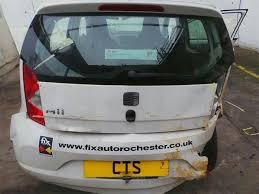Broken-glass: (210, 81, 227, 119)
Dent: (163, 54, 235, 185), (60, 115, 98, 133)
